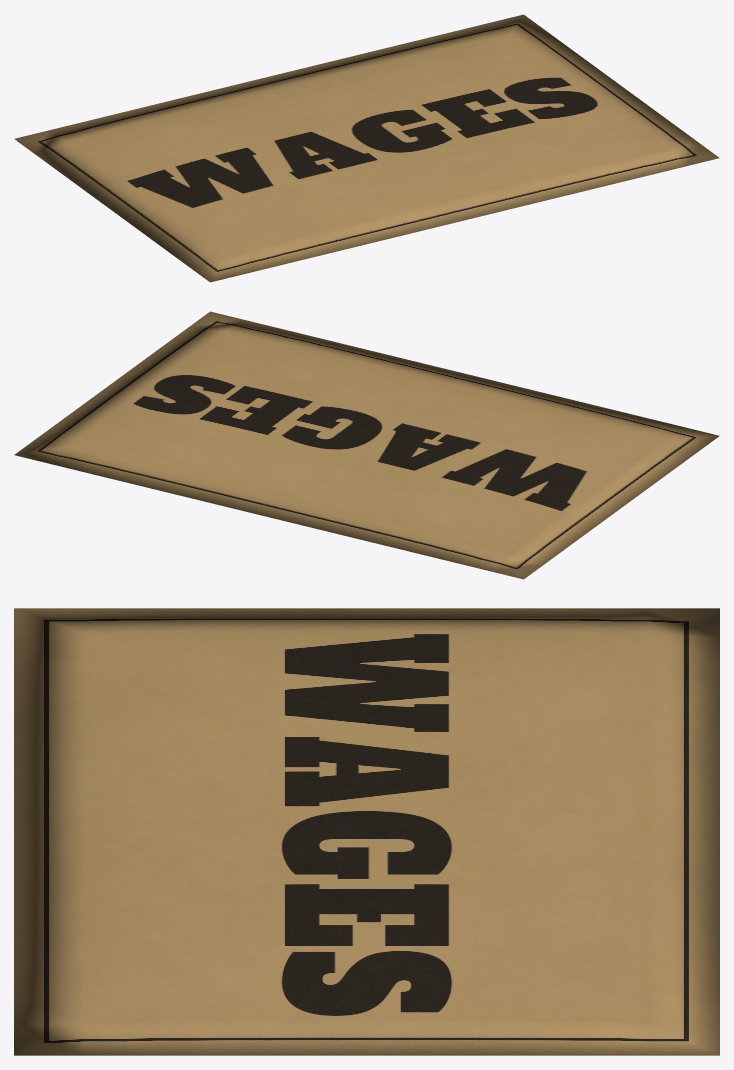
The model's file is wages-envelope.glb.
The picture shows the model from 3 angles, top to bottom: view 1: azimuth 30°, elevation 25°; view 2: azimuth 150°, elevation 25°; view 3: azimuth 270°, elevation 25°; orthographic projection. The views are drawn at different scales.
Visible parts, largest first — view 1: wages-envelope; view 2: wages-envelope; view 3: wages-envelope.
Part boxes in pixels (box(x1,y1,x2,y2)): wages-envelope: box(14, 14, 719, 282); wages-envelope: box(14, 311, 719, 579); wages-envelope: box(14, 608, 719, 1055).
Bounding box in the file's own units: 0.114 × 0.0036 × 0.076.
Materials: 2 (2 with a texture image).
